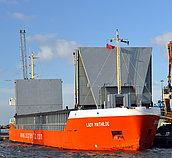Ship: (5, 26, 166, 154)
